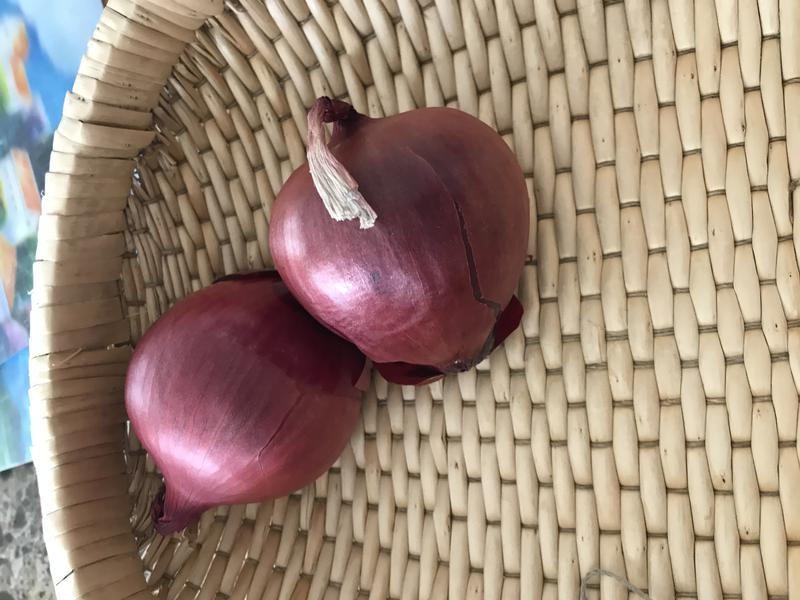purple_onion: (261, 82, 535, 390), (116, 262, 381, 552)
